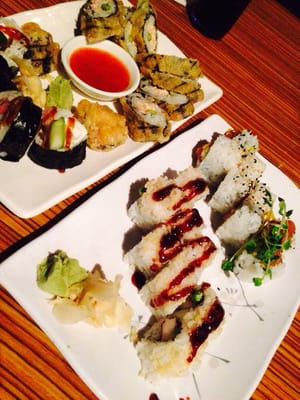curry: (36, 249, 90, 298)
pizza: (184, 0, 252, 40)
sushi: (60, 38, 141, 102)
